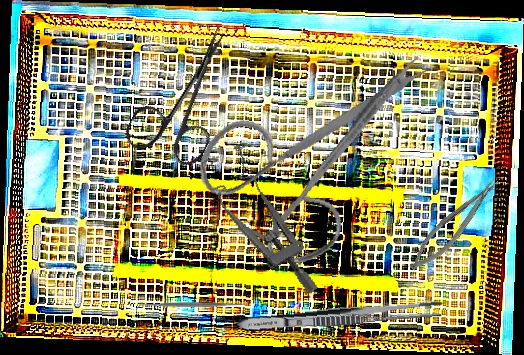Dressing Forceps: (236, 297, 444, 336)
Iris Scissors: (184, 17, 434, 282), (120, 10, 257, 176)
Needle Holder: (402, 173, 508, 277)
Spatula Surgical: (136, 299, 249, 311)
Speculum: (198, 134, 320, 315)
